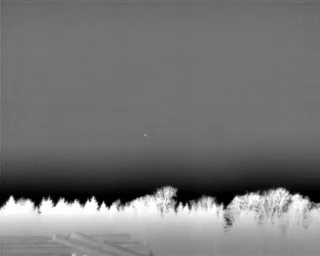BIRD: (142, 131, 149, 139)
